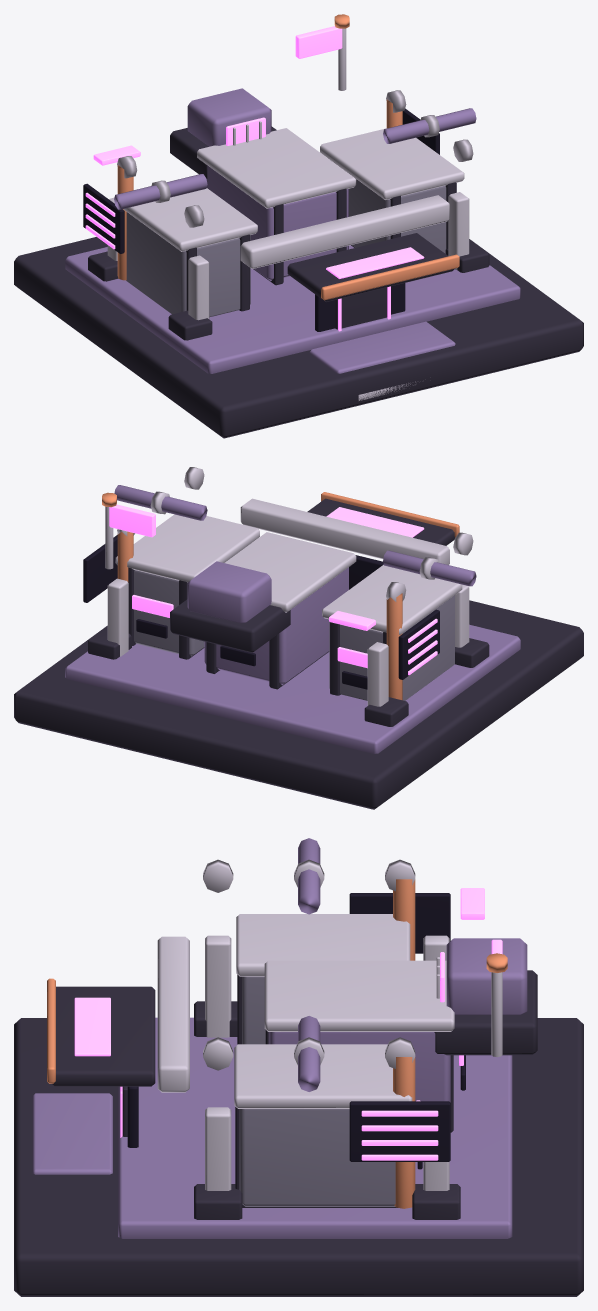
The model's file is vesper-barracks.glb.
3 renders of one model, top to bottom at view 1: azimuth 30°, elevation 25°; view 2: azimuth 150°, elevation 25°; view 3: azimuth 270°, elevation 25°, orthographic. The views are drawn at different scales.
Parts seen in each view (by area): view 1: Vesper barracks skid, Underframe crossmember, Container armor roof, Reclaimed bunk container, Pod violet vent.001, Awning salvage edge, Pod service panel; view 2: Vesper barracks skid, Underframe crossmember, Container armor roof, Reclaimed bunk container, Pod service panel, Pod violet vent.001, Awning salvage edge, Pod violet vent; view 3: Vesper barracks skid, Underframe crossmember, Container armor roof, Reclaimed bunk container, Pod service panel, Pod violet vent.001, Awning salvage edge.
Part boxes in pixels (<box>): Vesper barracks skid: <box>14,126,583,438</box>; Underframe crossmember: <box>65,88,520,373</box>; Container armor roof: <box>107,28,473,400</box>; Reclaimed bunk container: <box>126,178,456,317</box>; Pod violet vent.001: <box>85,26,424,331</box>; Awning salvage edge: <box>117,14,459,300</box>; Pod service panel: <box>83,108,439,331</box>; Vesper barracks skid: <box>14,498,583,809</box>; Underframe crossmember: <box>65,485,520,753</box>; Container armor roof: <box>105,467,473,706</box>; Reclaimed bunk container: <box>134,570,454,700</box>; Pod service panel: <box>83,535,439,689</box>; Pod violet vent.001: <box>109,504,437,675</box>; Awning salvage edge: <box>102,492,459,700</box>; Pod violet vent: <box>132,595,173,617</box>; Vesper barracks skid: <box>14,970,583,1296</box>; Underframe crossmember: <box>32,838,527,1238</box>; Container armor roof: <box>157,859,502,1190</box>; Reclaimed bunk container: <box>239,976,395,1206</box>; Pod service panel: <box>127,893,465,1169</box>; Pod violet vent.001: <box>74,888,502,1160</box>; Awning salvage edge: <box>47,879,507,1208</box>.
Bounding box in the file's own units: 2.82 × 1.63 × 2.82.
